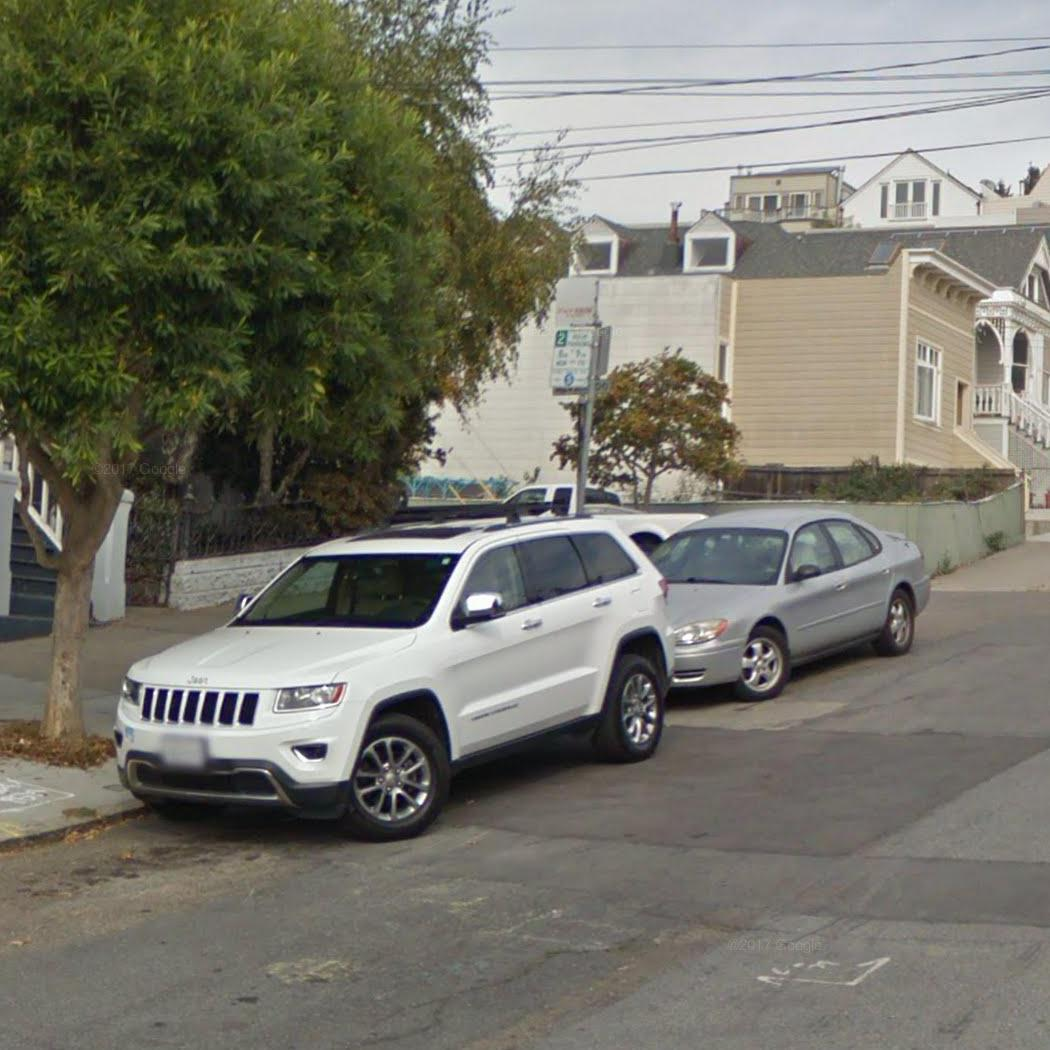2 Hour Parking: (551, 324, 595, 388)
